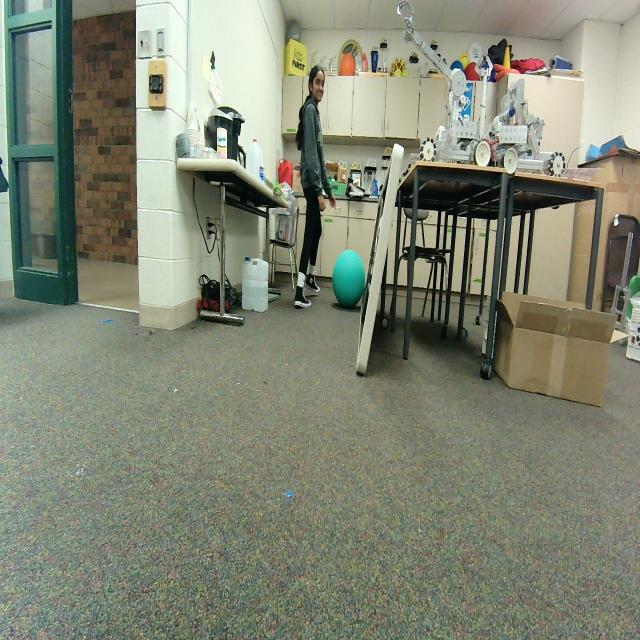algae: (332, 250, 367, 310)
